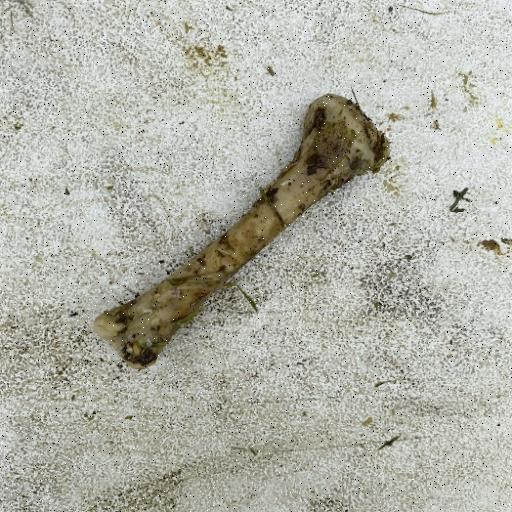Waste: (91, 90, 392, 370)
